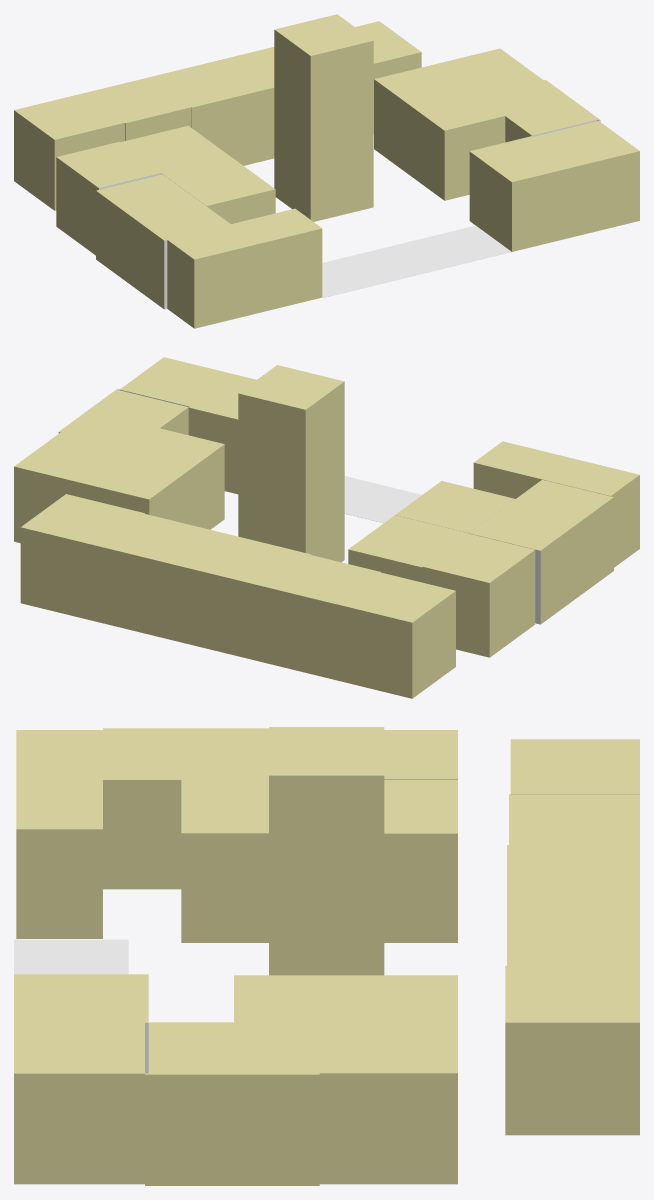
Rendered from d23mapNew.fbx.
The picture shows the model from 3 angles, top to bottom: view 1: azimuth 30°, elevation 25°; view 2: azimuth 150°, elevation 25°; view 3: azimuth 270°, elevation 25°; orthographic projection. The views are drawn at different scales.
Parts seen in each view (by area): view 1: Model; view 2: Model; view 3: Model.
Part boxes in pixels (x1,y1,x2,y2): Model: (14,14,639,328); Model: (14,357,639,698); Model: (14,727,639,1185).
Size of the model in its own units: 1026 by 363 by 779.
